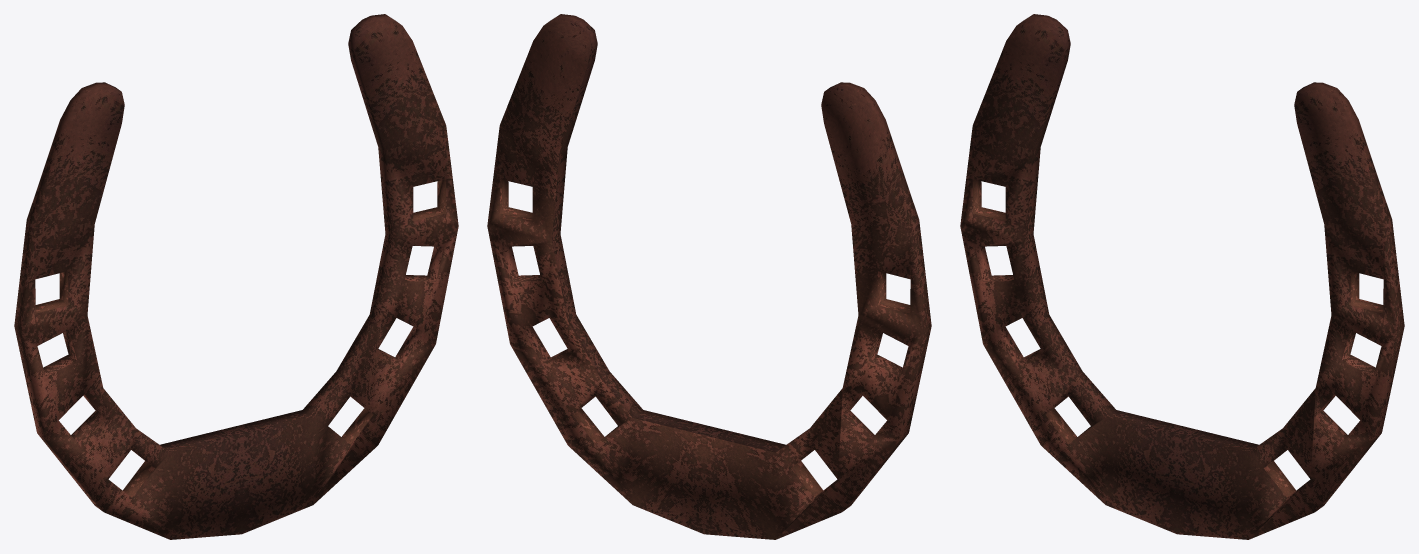
File: Horseshoe1.glb
3 views of the same model, side by side, from view 1: azimuth 30°, elevation 25°; view 2: azimuth 150°, elevation 25°; view 3: azimuth 330°, elevation 25° (orthographic).
Visible parts, largest first — view 1: Horseshoe1; view 2: Horseshoe1; view 3: Horseshoe1.
Part boxes in pixels (left/top/right/bottom): Horseshoe1: left=14, top=14, right=458, bottom=539; Horseshoe1: left=487, top=14, right=931, bottom=539; Horseshoe1: left=960, top=14, right=1404, bottom=539.
Size of the model in its own units: 0.1689 by 0.1775 by 0.00724.
Materials: 1 (1 with a texture image).
